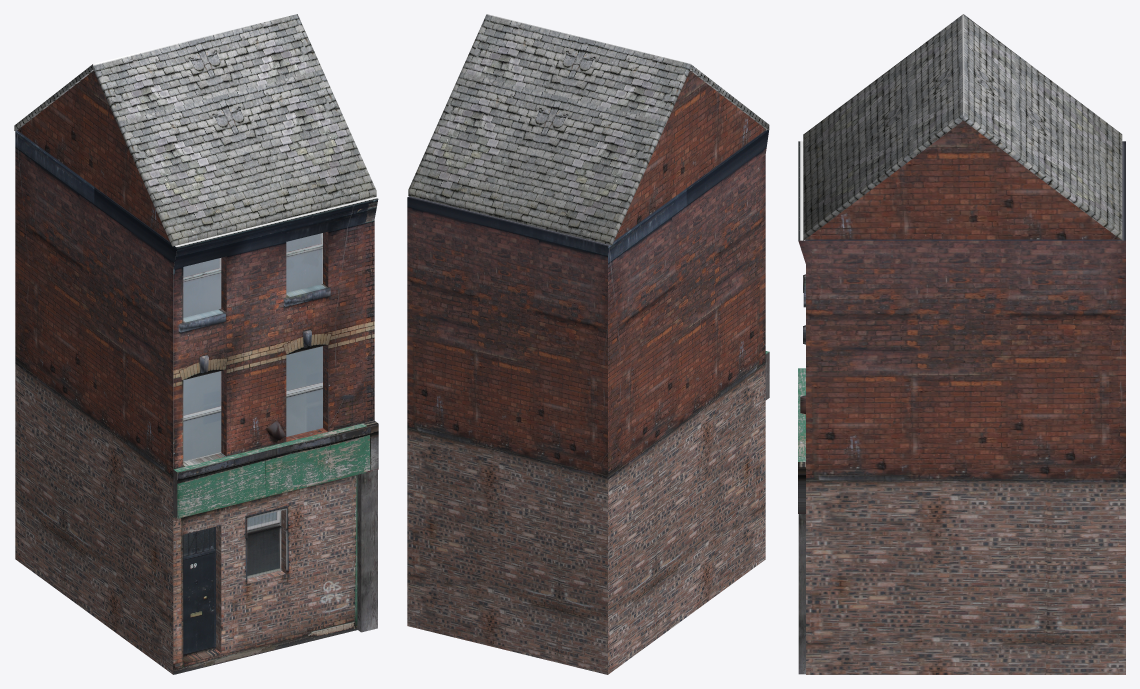
File: building24.obj
3 views of the same model, side by side, from view 1: azimuth 30°, elevation 25°; view 2: azimuth 150°, elevation 25°; view 3: azimuth 270°, elevation 25° (orthographic).
Parts seen in each view (by area): view 1: building24; view 2: building24; view 3: building24.
Boxes of the visible parts, x1,y1,x2,y2 form: building24: (14, 14, 378, 674); building24: (407, 14, 769, 674); building24: (798, 14, 1125, 674).
Bounding box in the file's own units: 177 × 460 × 244.
1 material, 1 textured.
